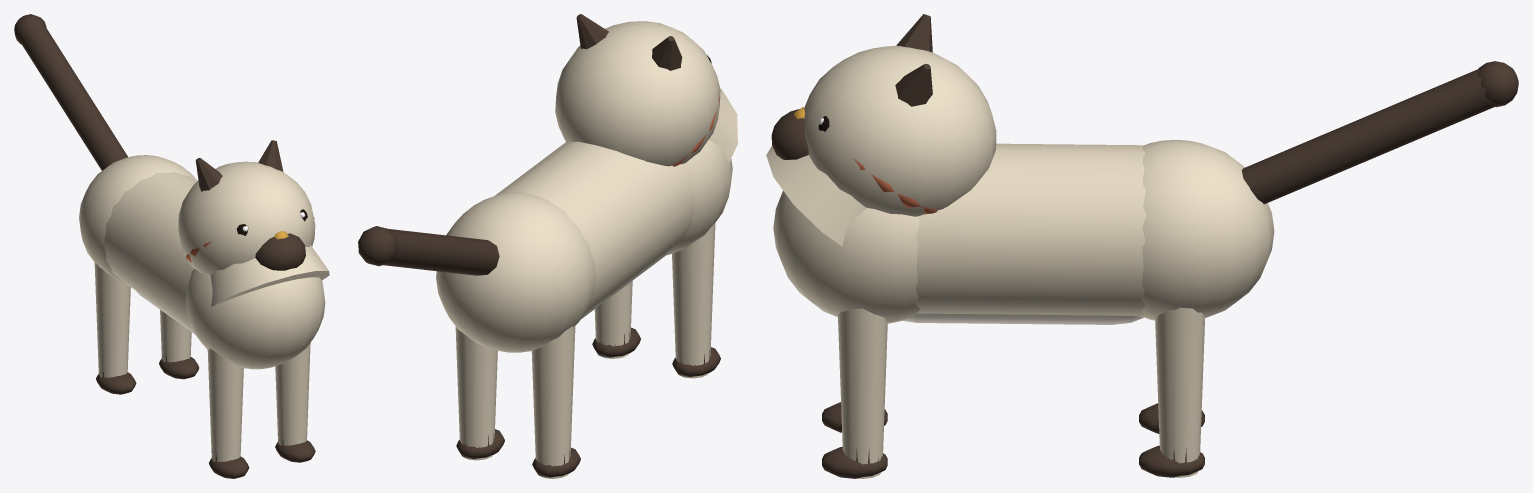
The model's file is h33-kucing-siam.glb.
The picture shows the model from 3 angles, left to right: view 1: azimuth 30°, elevation 25°; view 2: azimuth 150°, elevation 25°; view 3: azimuth 270°, elevation 25°; orthographic projection. The views are drawn at different scales.
Visible parts, largest first — view 1: Kucing Siam, head, neck; view 2: Kucing Siam, head, neck; view 3: Kucing Siam, head, neck.
Part boxes in pixels (box(x1,y1,x2,y2)): Kucing Siam: box(14, 14, 325, 478); head: box(178, 140, 315, 274); neck: box(186, 218, 329, 307); Kucing Siam: box(358, 139, 732, 478); head: box(555, 14, 720, 166); neck: box(672, 89, 737, 166); Kucing Siam: box(773, 61, 1518, 478); head: box(771, 14, 996, 216); neck: box(766, 107, 937, 246).
Size of the model in its own units: 0.2 by 0.4732 by 0.7807.
